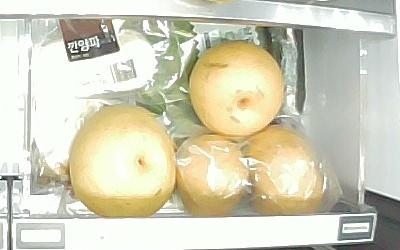pear: (68, 105, 175, 218), (189, 39, 284, 137)
pear_vinyl: (244, 124, 324, 214), (176, 137, 248, 217)
